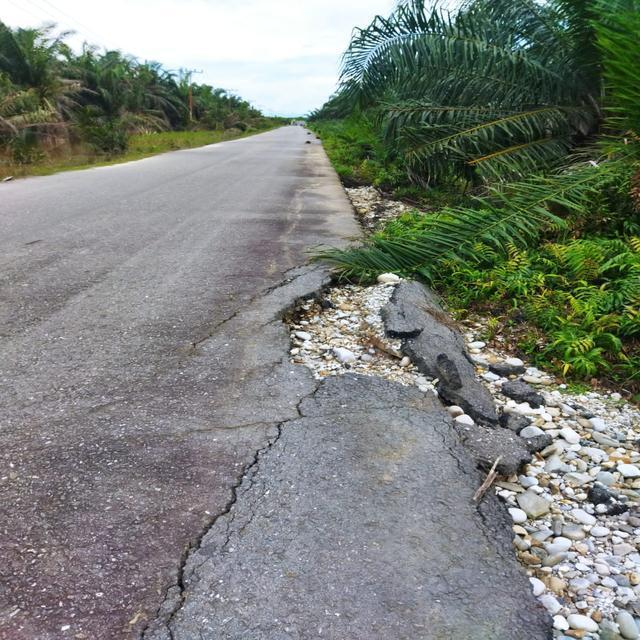Pinggir: (245, 231, 526, 431)
